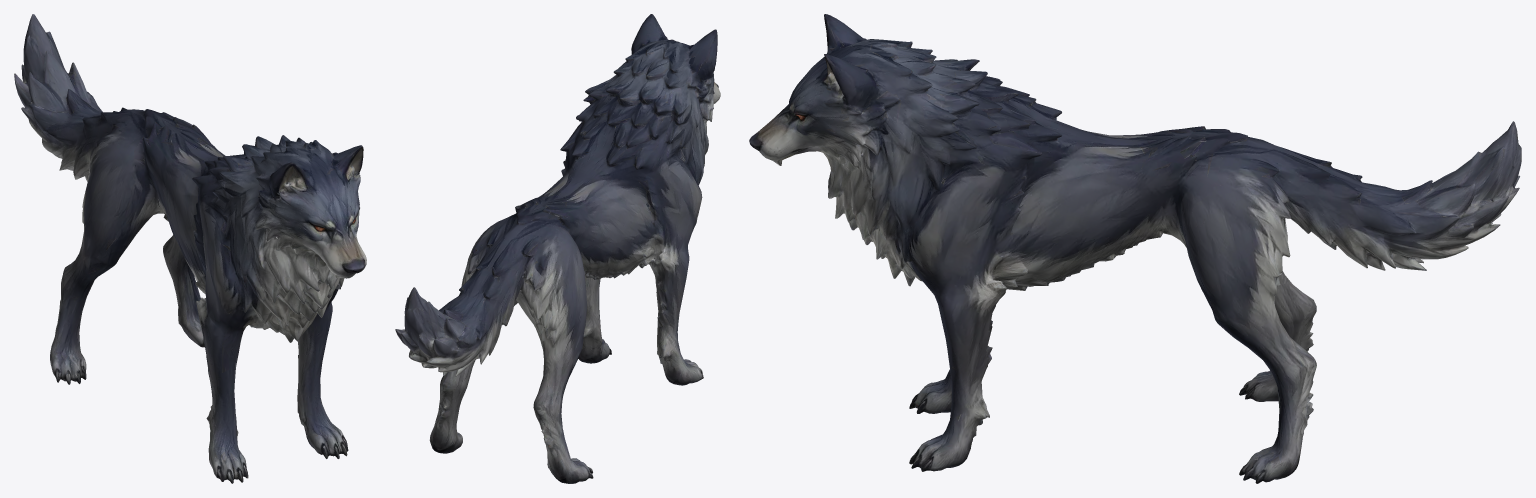
The model's file is wolf.glb.
The picture shows the model from 3 angles, left to right: view 1: azimuth 30°, elevation 25°; view 2: azimuth 150°, elevation 25°; view 3: azimuth 270°, elevation 25°; orthographic projection. The views are drawn at different scales.
Visible parts, largest first — view 1: Mesh_0; view 2: Mesh_0; view 3: Mesh_0.
Part boxes in pixels (<box>): Mesh_0: <box>14,14,366,483</box>; Mesh_0: <box>395,14,720,483</box>; Mesh_0: <box>749,14,1521,483</box>.
Bounding box in the file's own units: 0.5719 × 1.1 × 1.91.
1 material, 1 textured.
